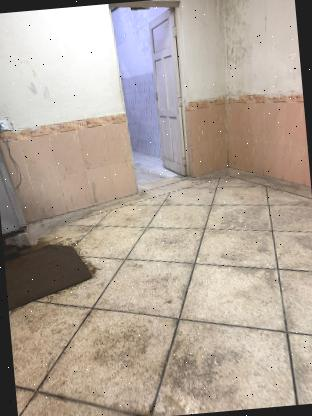door: (104, 0, 201, 198)
